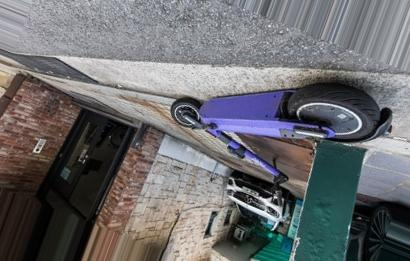scooter: (171, 82, 393, 204)
